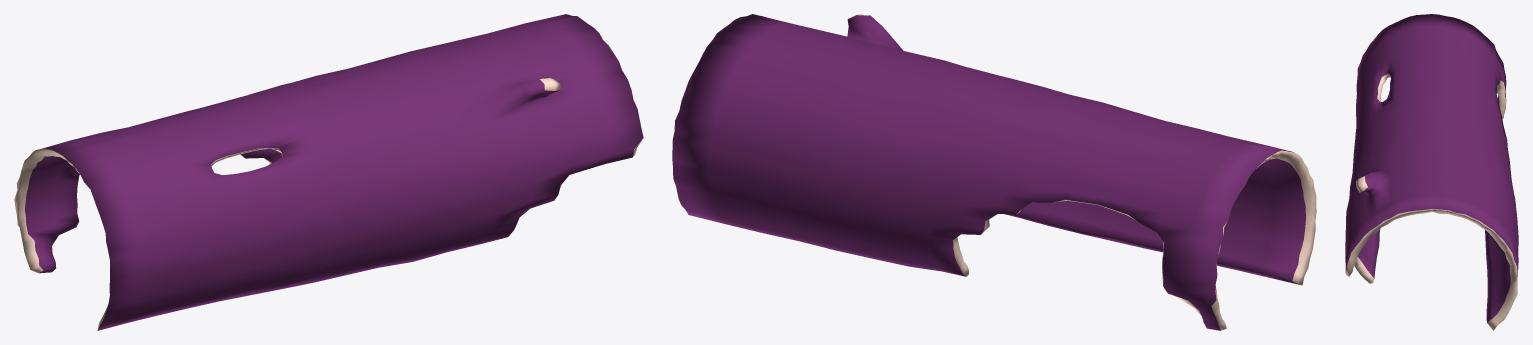
Rendered from HollowLog.glb.
3 renders of one model, left to right at view 1: azimuth 30°, elevation 25°; view 2: azimuth 150°, elevation 25°; view 3: azimuth 270°, elevation 25°, orthographic. The views are drawn at different scales.
Visible parts, largest first — view 1: Cylinder; view 2: Cylinder; view 3: Cylinder.
Part boxes in pixels (x1,y1,x2,y2): Cylinder: (14,14,643,330); Cylinder: (672,14,1316,330); Cylinder: (1345,14,1518,330).
Bounding box in the file's own units: 19.18 × 5.54 × 7.09.
